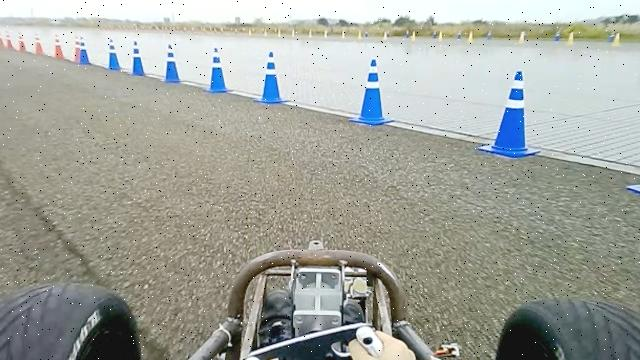blue cone: (478, 70, 542, 158), (348, 57, 394, 126), (252, 51, 290, 104), (203, 47, 234, 93), (163, 43, 181, 82), (130, 39, 145, 76)
